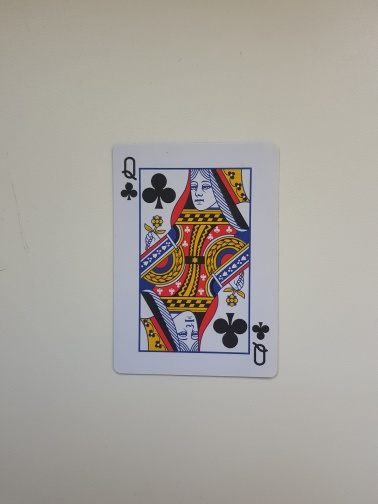queen: (111, 143, 280, 378)
